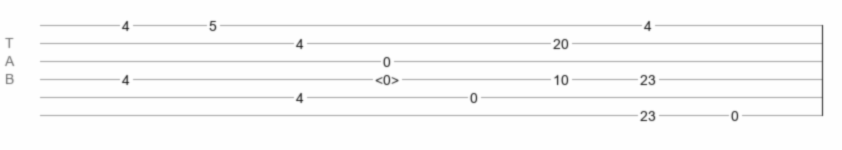0: (383, 54, 391, 64), (470, 90, 478, 100), (731, 108, 739, 118)
10: (553, 72, 569, 82)
20: (553, 36, 569, 46)
23: (640, 108, 656, 118), (640, 72, 656, 82)
4: (122, 18, 130, 28), (122, 72, 130, 82), (296, 36, 304, 46), (296, 90, 304, 100), (644, 18, 652, 28)
5: (209, 18, 217, 28)
harmonic: (375, 72, 399, 82)
